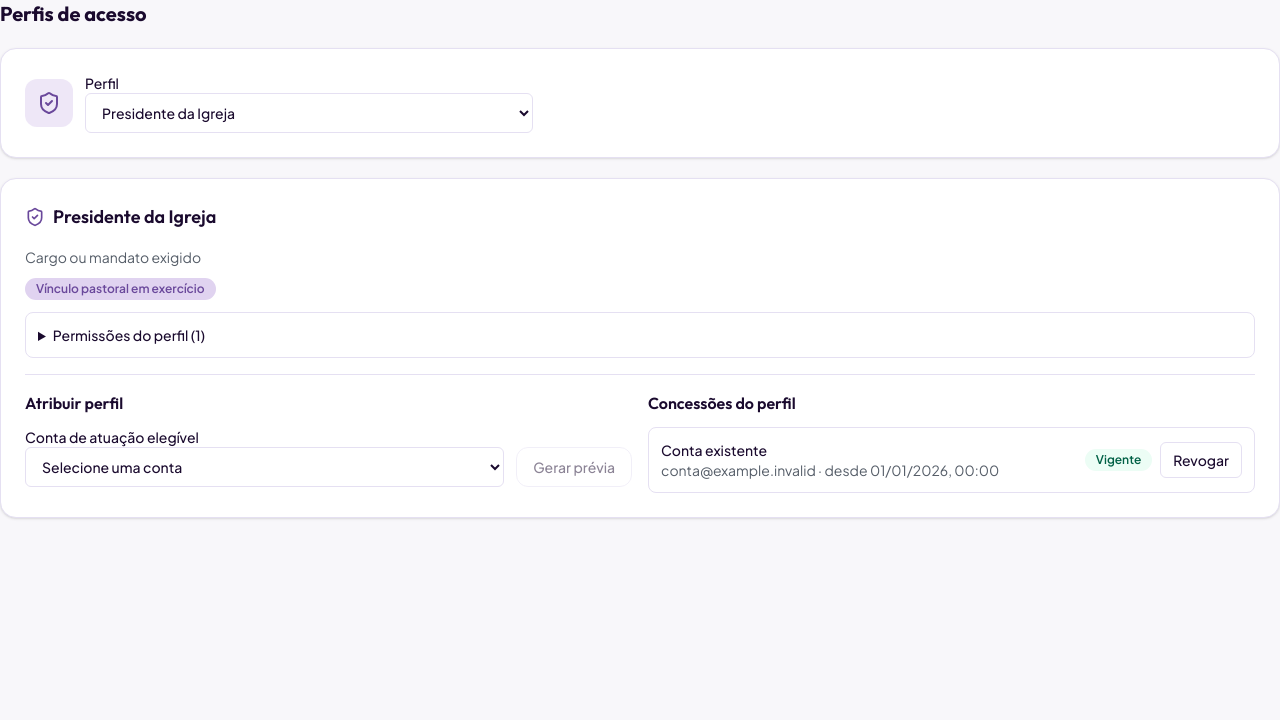
confirma e revoga um perfil de acesso sem solicitar fundamento
Select "Conta elegível · nova@example.invalid" in the dropdown labelled "Conta de atuação elegível" at (265, 467), box [25,447,504,487]
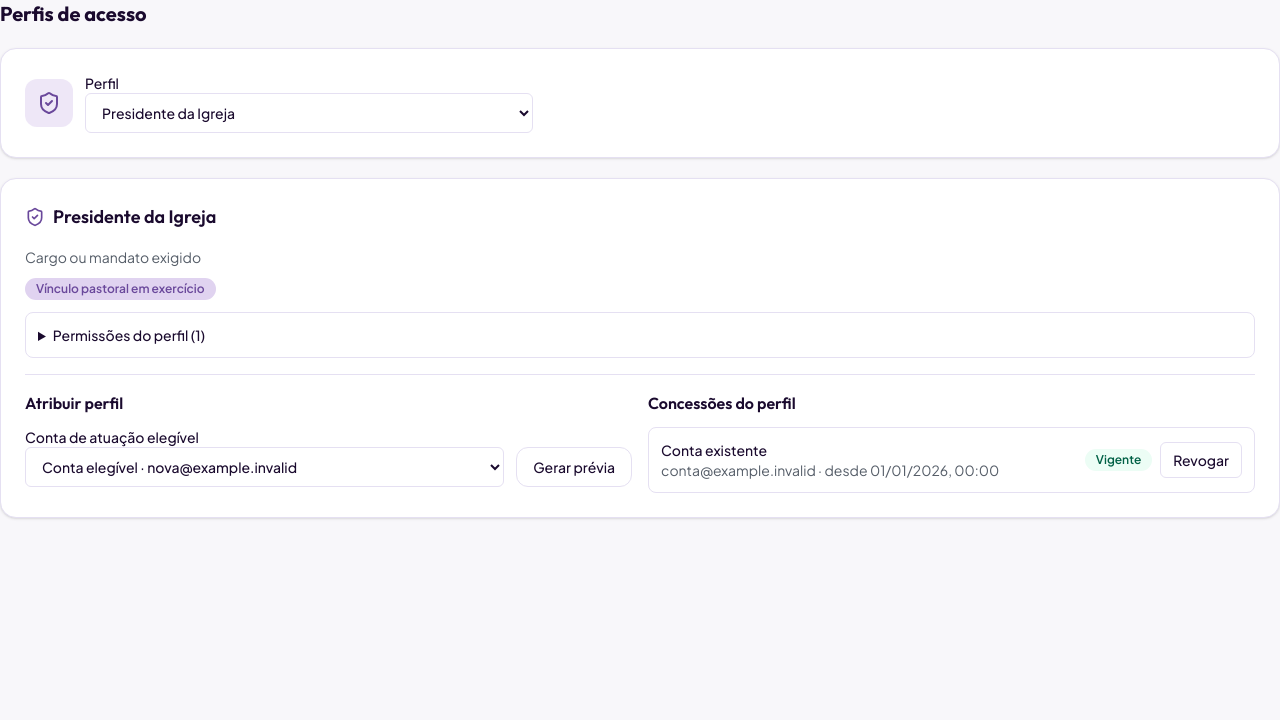
Click the button "Gerar prévia" at (574, 467), box [516,447,632,487]
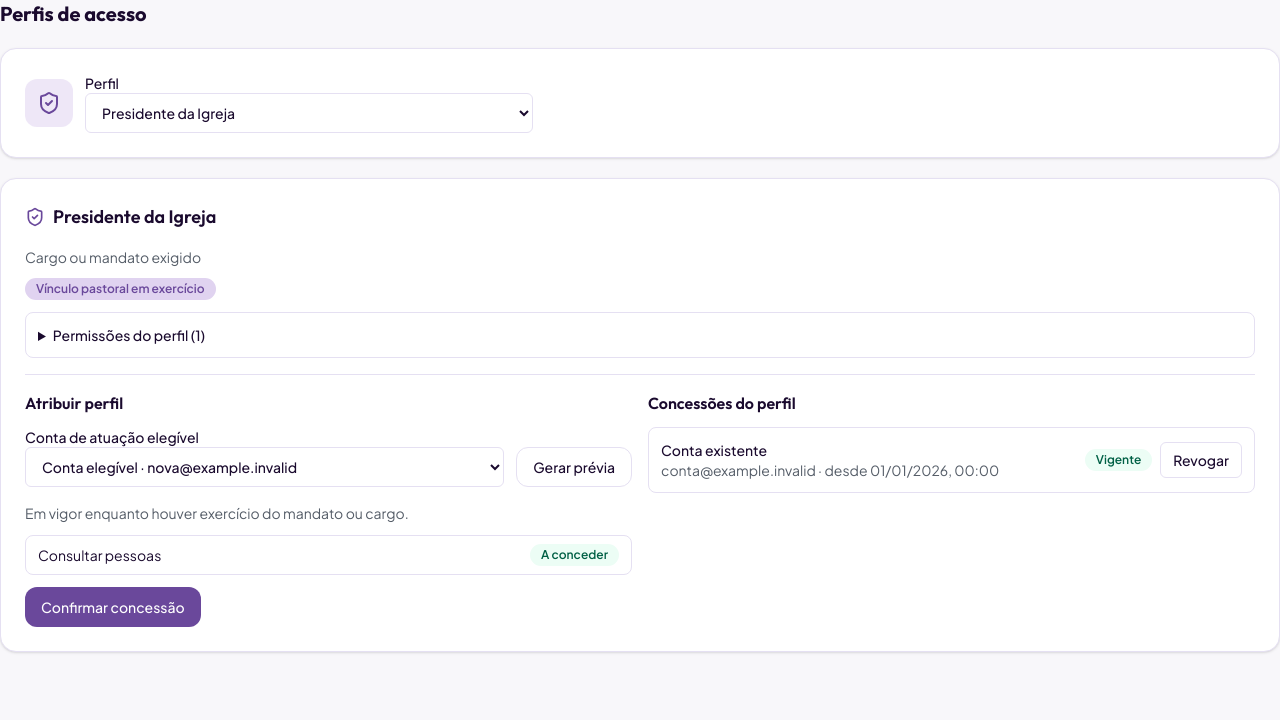
Result: the button "Confirmar concessão" is enabled
Click the button "Confirmar concessão" at (113, 607), box [25,587,201,627]
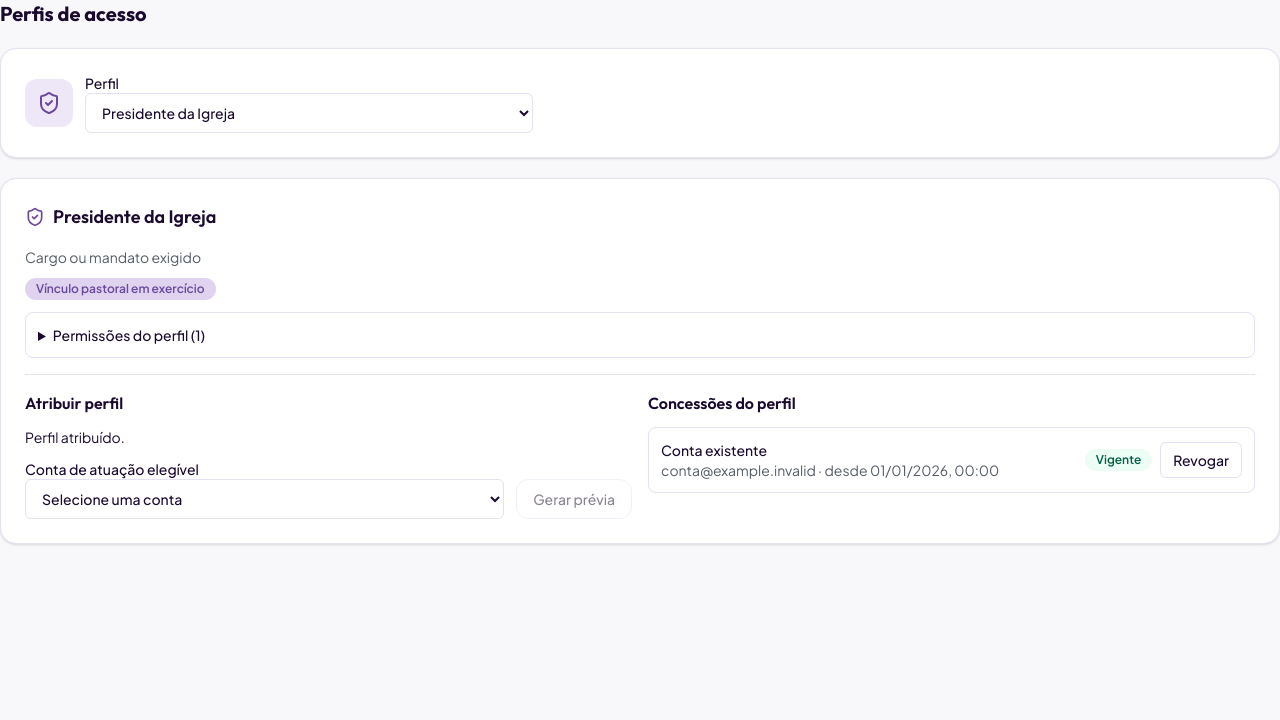
Result: the text "Perfil atribuído." is shown at [25,428,125,446]
Click the button with aria-label "Revogar concessão de Conta existente" at (1201, 460), box [1160,442,1242,478]
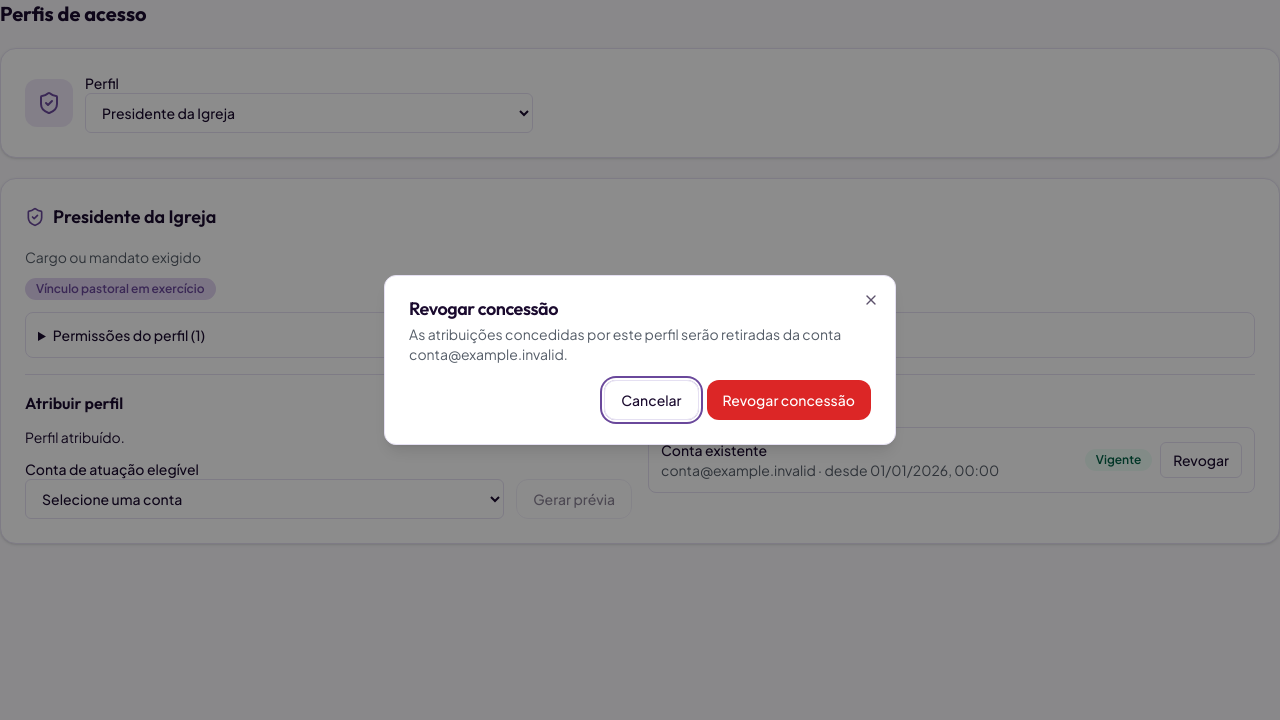
Click the button "Revogar concessão" at (789, 400), box [706,380,871,420]
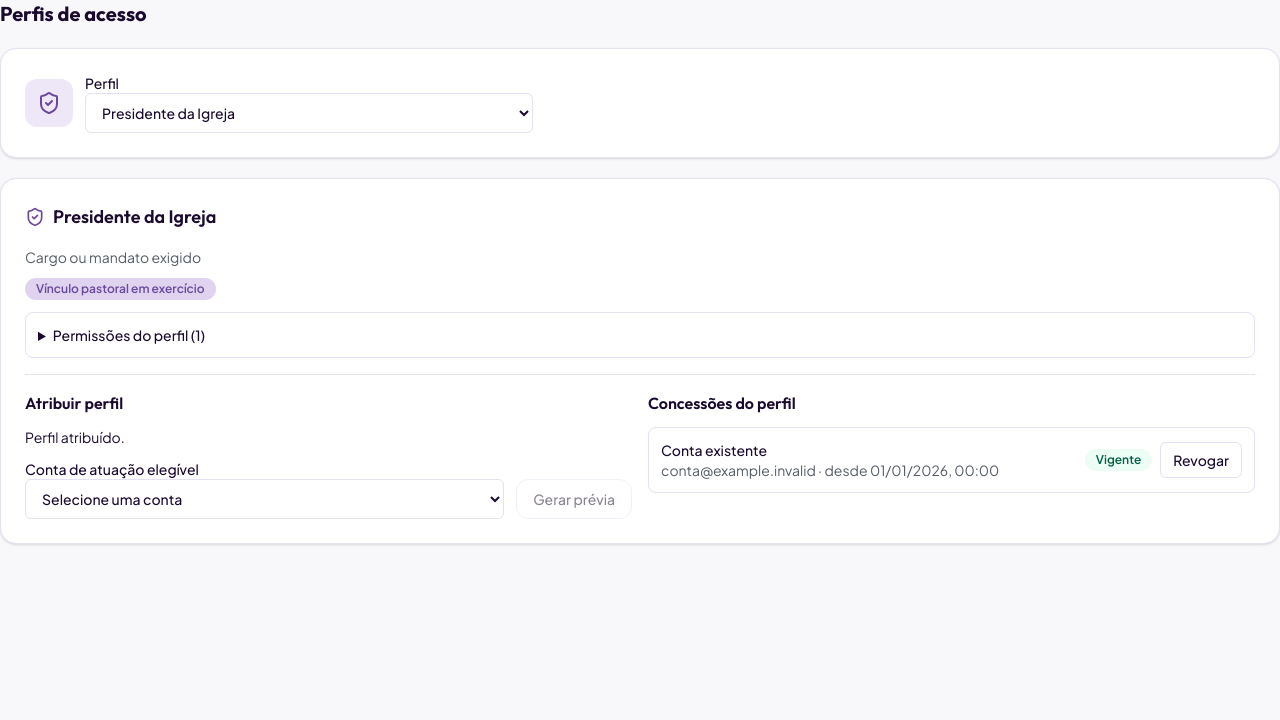
Result: the dialog is gone
